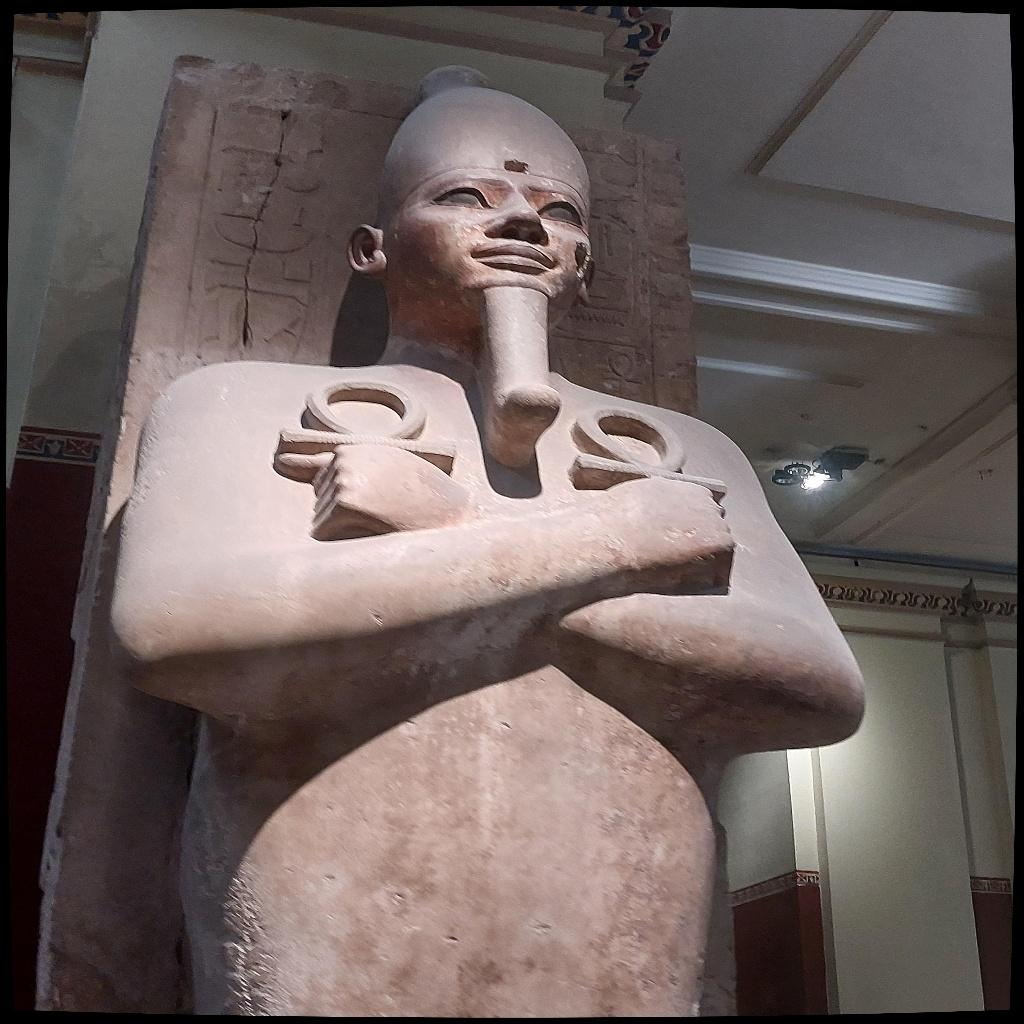Colossus of Senuseret I: (92, 63, 874, 1012)
